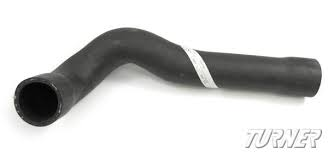radiator_hose: (17, 28, 319, 123)
